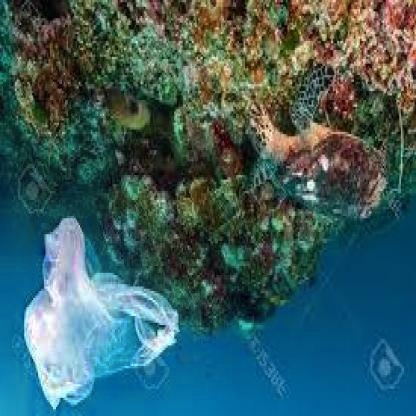pbag: (23, 216, 180, 414)
